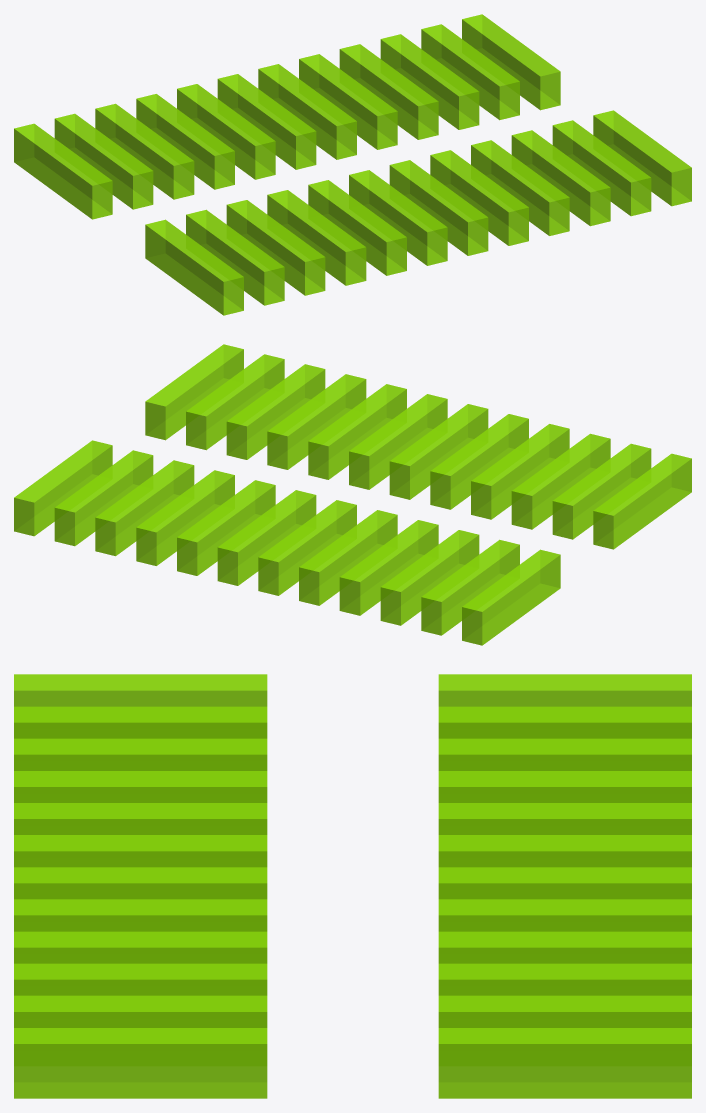
File: racks.FBX
3 renders of one model, top to bottom at view 1: azimuth 30°, elevation 25°; view 2: azimuth 150°, elevation 25°; view 3: azimuth 270°, elevation 25°, orthographic. The views are drawn at different scales.
Visible parts, largest first — view 1: Box036; view 2: Box036; view 3: Box036.
Boxes of the visible parts, box(x1,y1,x2,y2) form: Box036: box(14, 14, 691, 315); Box036: box(14, 344, 691, 645); Box036: box(14, 674, 691, 1098).
Bounding box in the file's own units: 368 × 25.33 × 285.
